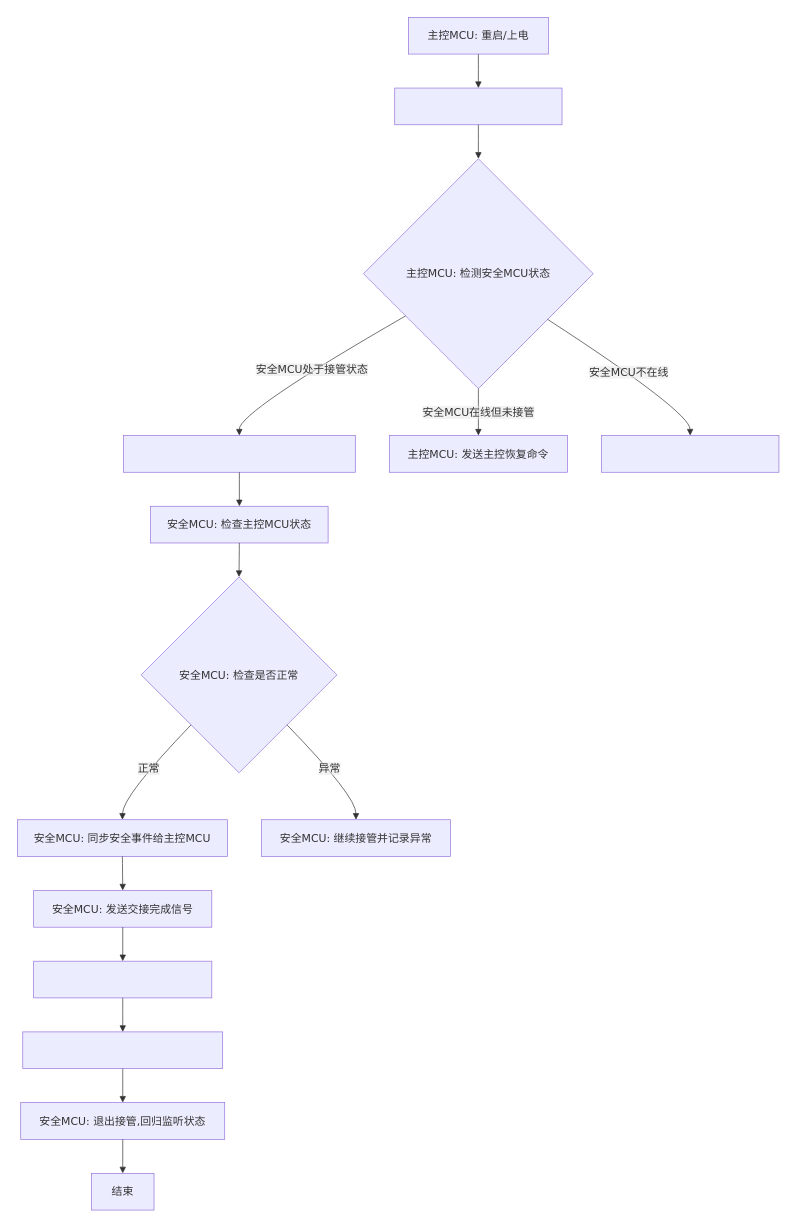
Image size: 791x1222. Some labels were removed from this diagram. The box of each missing label's shape, as (x1, y1, x2, y2) in pixels:
主控MCU: 使能安全MCU电源: (601, 435, 779, 472)
主控MCU: 发送恢复同步请求给安全MCU: (123, 435, 355, 472)
主控MCU: 发送清除屏幕降级提示: (22, 1031, 223, 1069)
主控MCU: 完成自身初始化: (394, 87, 562, 125)
主控MCU: 开始正常下发命令: (33, 961, 212, 998)
